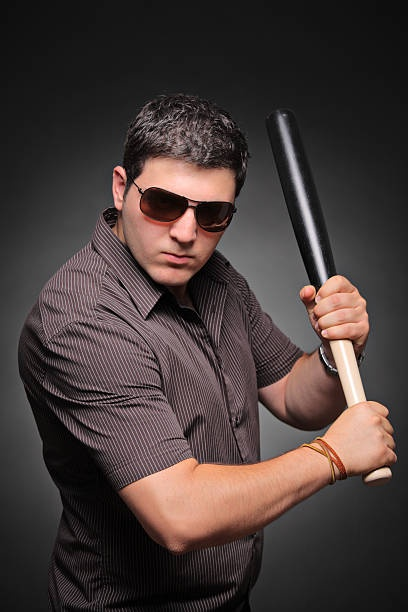bita: (266, 104, 397, 487)
